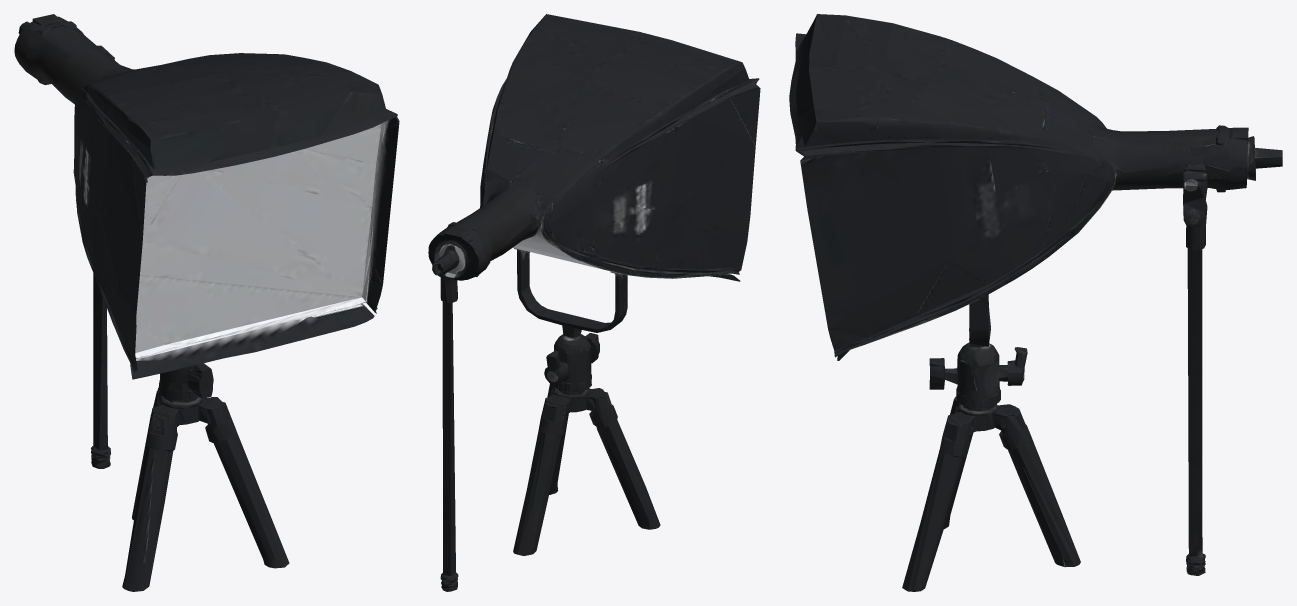
Rendered from softbox.glb.
3 renders of one model, left to right at view 1: azimuth 30°, elevation 25°; view 2: azimuth 150°, elevation 25°; view 3: azimuth 270°, elevation 25°, orthographic. The views are drawn at different scales.
Bounding box in the file's own units: 0.9959 × 1.9 × 1.73.
Materials: 1 (1 with a texture image).
